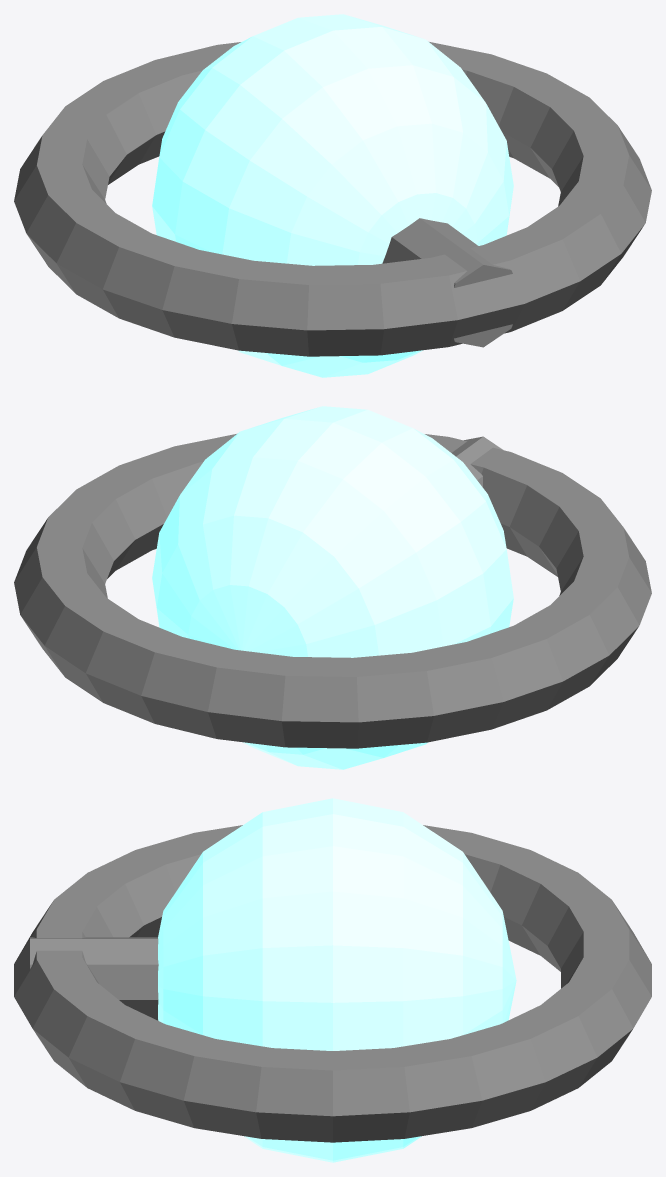
File: TriggerOrb.glb
3 renders of one model, top to bottom at view 1: azimuth 30°, elevation 25°; view 2: azimuth 150°, elevation 25°; view 3: azimuth 270°, elevation 25°, orthographic.
Parts seen in each view (by area): view 1: TriggerOrb_ring, TriggerOrb_ball, TriggerOrb_stub; view 2: TriggerOrb_ring, TriggerOrb_ball, TriggerOrb_stub; view 3: TriggerOrb_ring, TriggerOrb_ball, TriggerOrb_stub.
Boxes of the visible parts, x1,y1,x2,y2 form: TriggerOrb_ring: (14,42,651,356); TriggerOrb_ball: (152,14,513,377); TriggerOrb_stub: (382,218,512,347); TriggerOrb_ring: (14,434,651,748); TriggerOrb_ball: (152,406,513,769); TriggerOrb_stub: (452,436,502,487); TriggerOrb_ring: (14,825,651,1142); TriggerOrb_ball: (158,798,516,1162); TriggerOrb_stub: (30,937,158,1020).
Bounding box in the file's own units: 0.7 × 0.4 × 0.6949.
